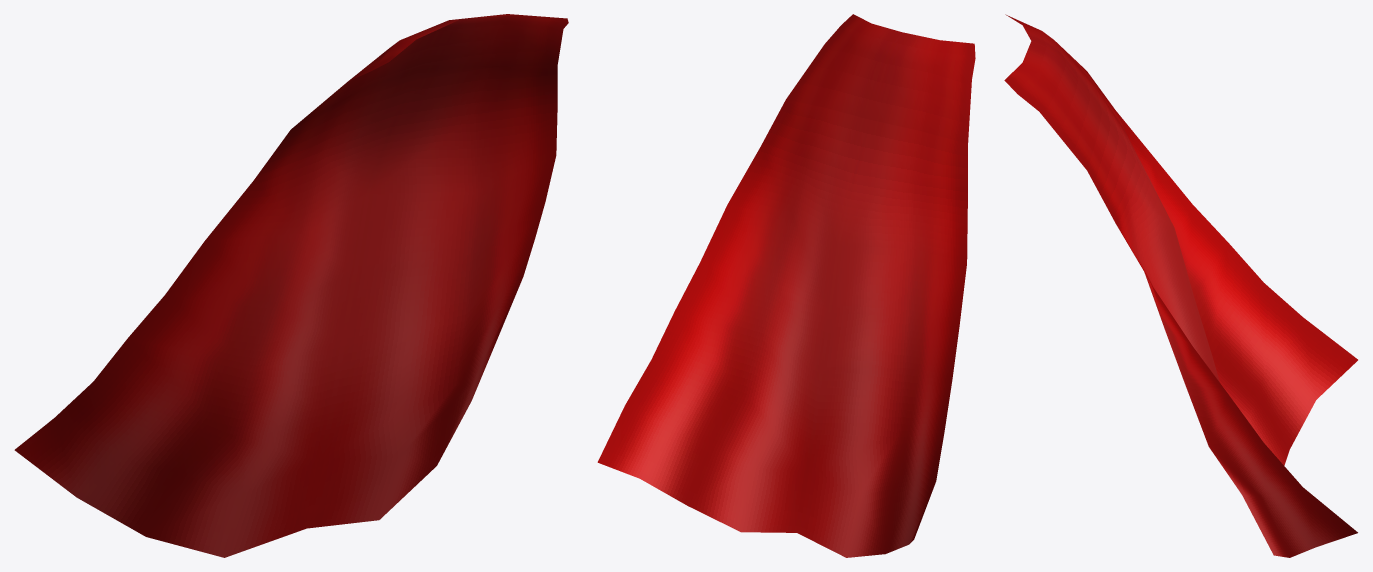
The model's file is batooncapemodel.glb.
The picture shows the model from 3 angles, left to right: view 1: azimuth 30°, elevation 25°; view 2: azimuth 150°, elevation 25°; view 3: azimuth 270°, elevation 25°; orthographic projection. The views are drawn at different scales.
Parts seen in each view (by area): view 1: supertoonCape; view 2: supertoonCape; view 3: supertoonCape.
Part boxes in pixels (bbox=[...]): supertoonCape: bbox=[14, 14, 568, 557]; supertoonCape: bbox=[597, 14, 975, 557]; supertoonCape: bbox=[1004, 14, 1357, 557].
Bounding box in the file's own units: 3.94 × 5.16 × 3.41.
1 material, 1 textured.
